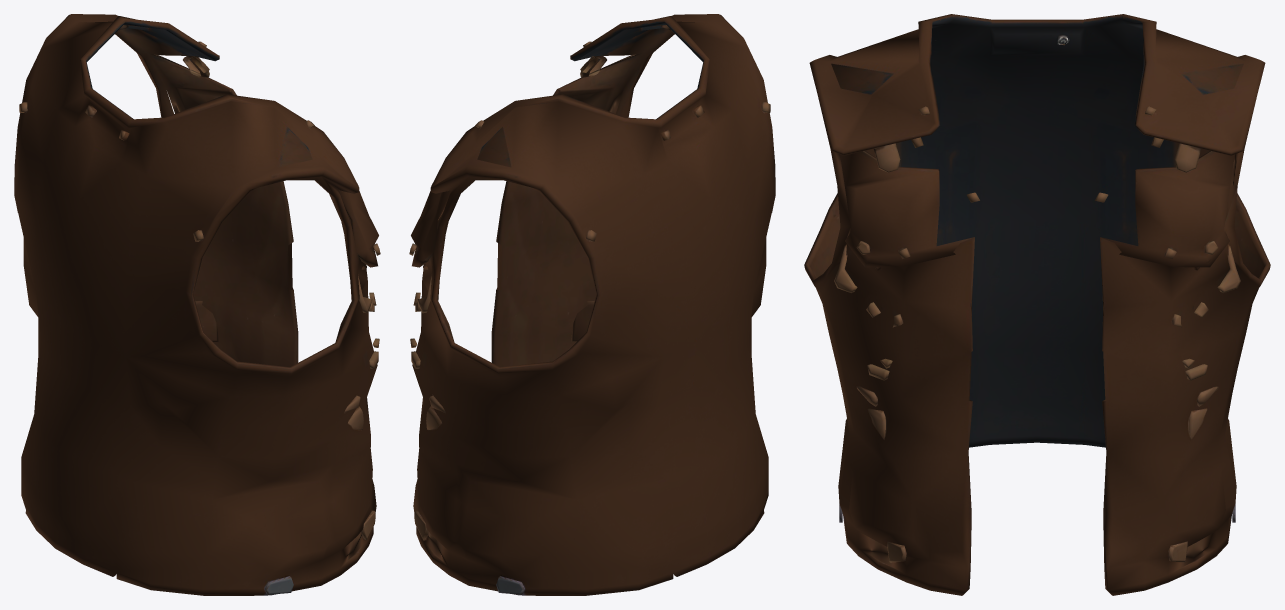
File: ratskin_vest.glb
The picture shows the model from 3 angles, left to right: view 1: azimuth 30°, elevation 25°; view 2: azimuth 150°, elevation 25°; view 3: azimuth 270°, elevation 25°; orthographic projection. The views are drawn at different scales.
Parts seen in each view (by area): view 1: base_model_path; view 2: base_model_path; view 3: base_model_path.
Boxes of the visible parts, x1,y1,x2,y2 form: base_model_path: (14, 14, 380, 595); base_model_path: (409, 14, 775, 595); base_model_path: (804, 14, 1270, 595).
Size of the model in its own units: 0.6339 by 0.9998 by 0.855.
1 material, 1 textured.
